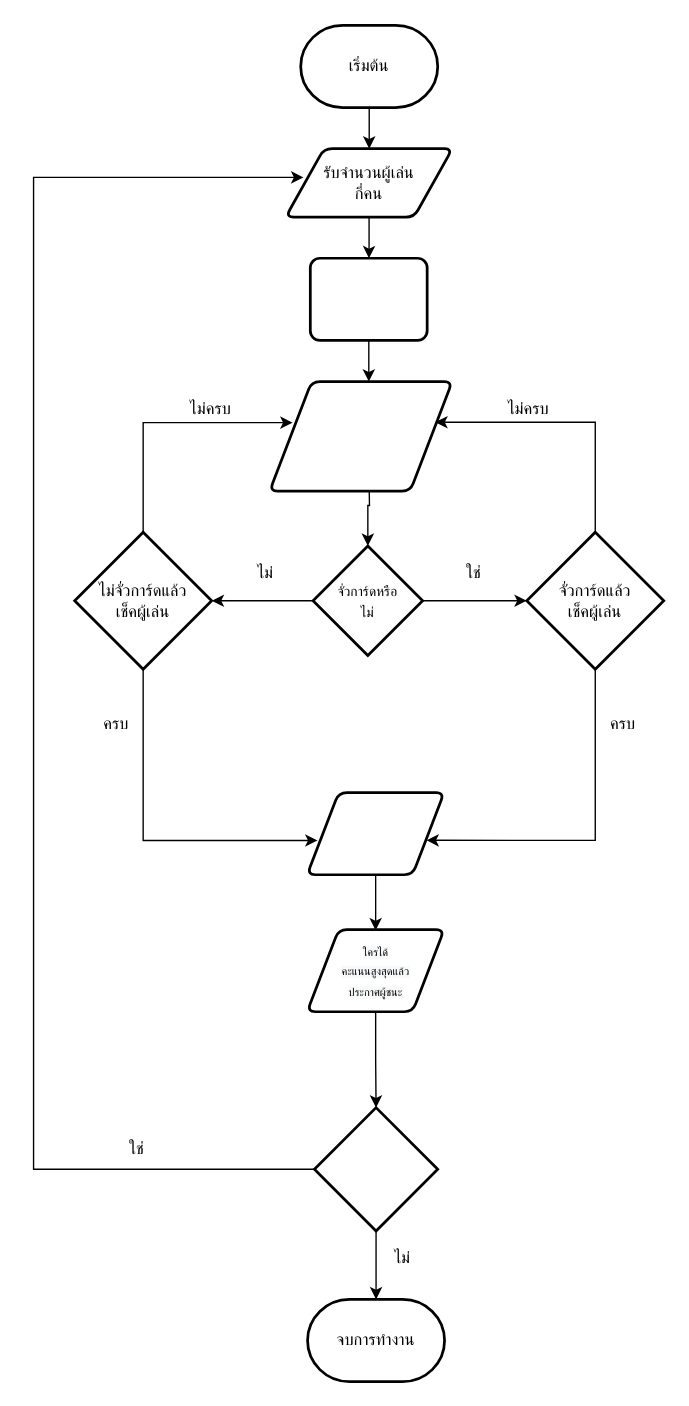
Image size: 689x1406. Some labels were removed from this diagram. Here are the shapes that lost their labels. From the top down, the centre of each, then its label:
At [368,298]: "แจกการ์ดจำนวน 2 ใบ".
At [360,435]: "แสดงการ์ด (ตามจำนวนผู้เล่น)".
At [375,832]: "แสดงผลรวม คะแนนแต่ ละคน".
At [375,1169]: "เลือกที่จะเล่น ใหม่หรือไม่".
